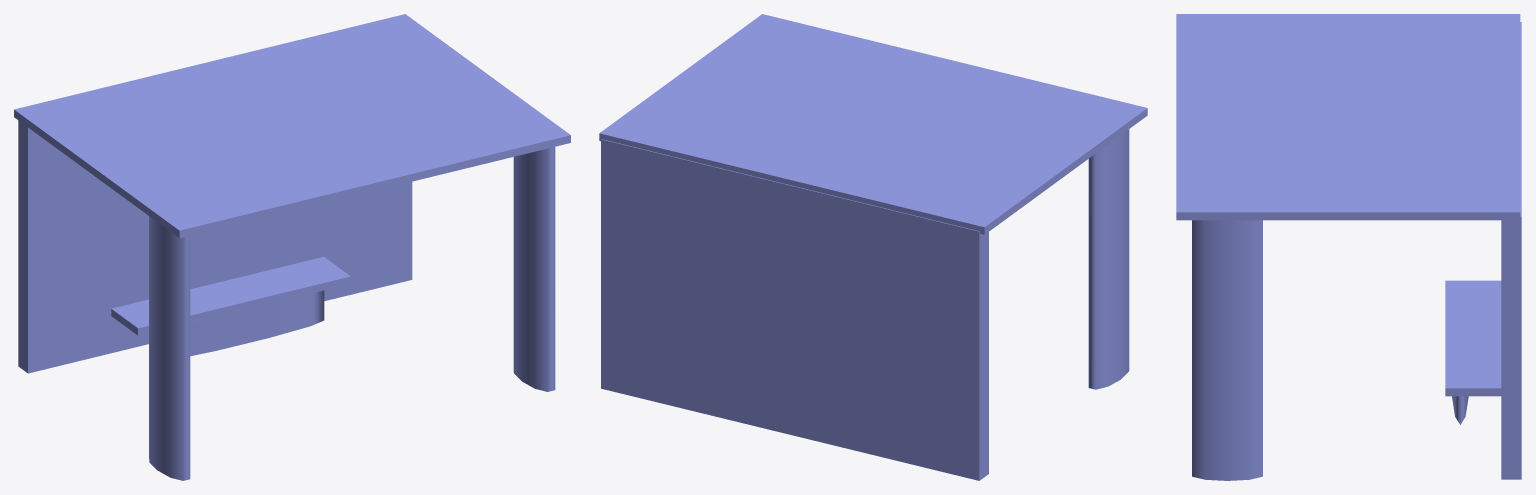
The model's file is Bus-stop-new.gltf.
3 renders of one model, left to right at view 1: azimuth 30°, elevation 25°; view 2: azimuth 150°, elevation 25°; view 3: azimuth 270°, elevation 25°, orthographic. The views are drawn at different scales.
Parts seen in each view (by area): view 1: Merged_Objects; view 2: Merged_Objects; view 3: Merged_Objects.
Boxes of the visible parts, x1,y1,x2,y2 form: Merged_Objects: [14, 14, 570, 480]; Merged_Objects: [599, 14, 1147, 480]; Merged_Objects: [1176, 14, 1521, 480].
Size of the model in its own units: 1.39 by 0.874 by 1.02.
